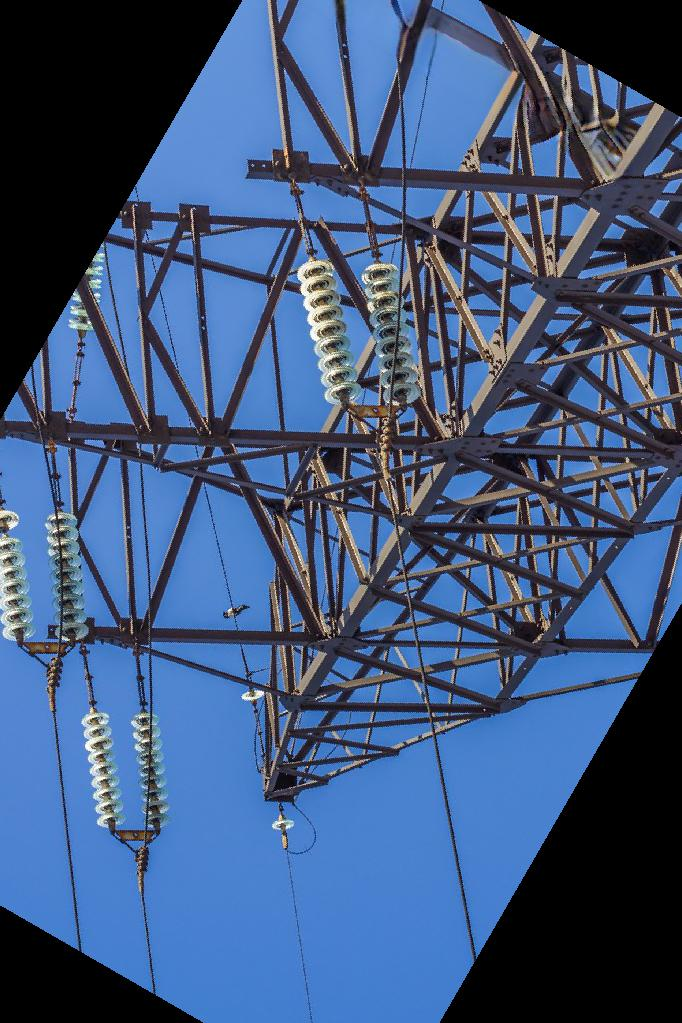insulator: (293, 256, 364, 407), (358, 259, 429, 407), (41, 509, 93, 647), (78, 706, 128, 833), (127, 708, 175, 833), (1, 505, 37, 646), (64, 239, 108, 337)
insulator_stringdrop: (1, 505, 25, 560)
